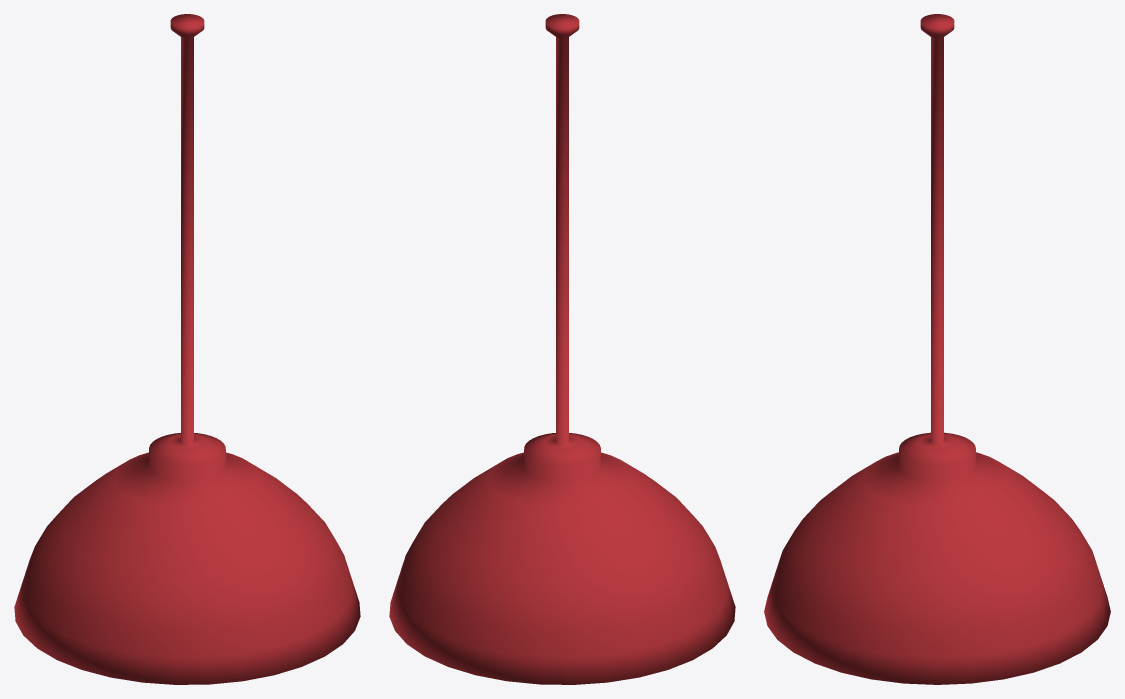
File: LampaKuchenna.fbx
3 views of the same model, side by side, from view 1: azimuth 30°, elevation 25°; view 2: azimuth 150°, elevation 25°; view 3: azimuth 270°, elevation 25° (orthographic).
Visible parts, largest first — view 1: Cylinder; view 2: Cylinder; view 3: Cylinder.
Boxes of the visible parts, left/top/right/bottom form: Cylinder: left=14, top=14, right=360, bottom=684; Cylinder: left=389, top=14, right=735, bottom=684; Cylinder: left=764, top=14, right=1110, bottom=684.
Bounding box in the file's own units: 422 × 793 × 422.
